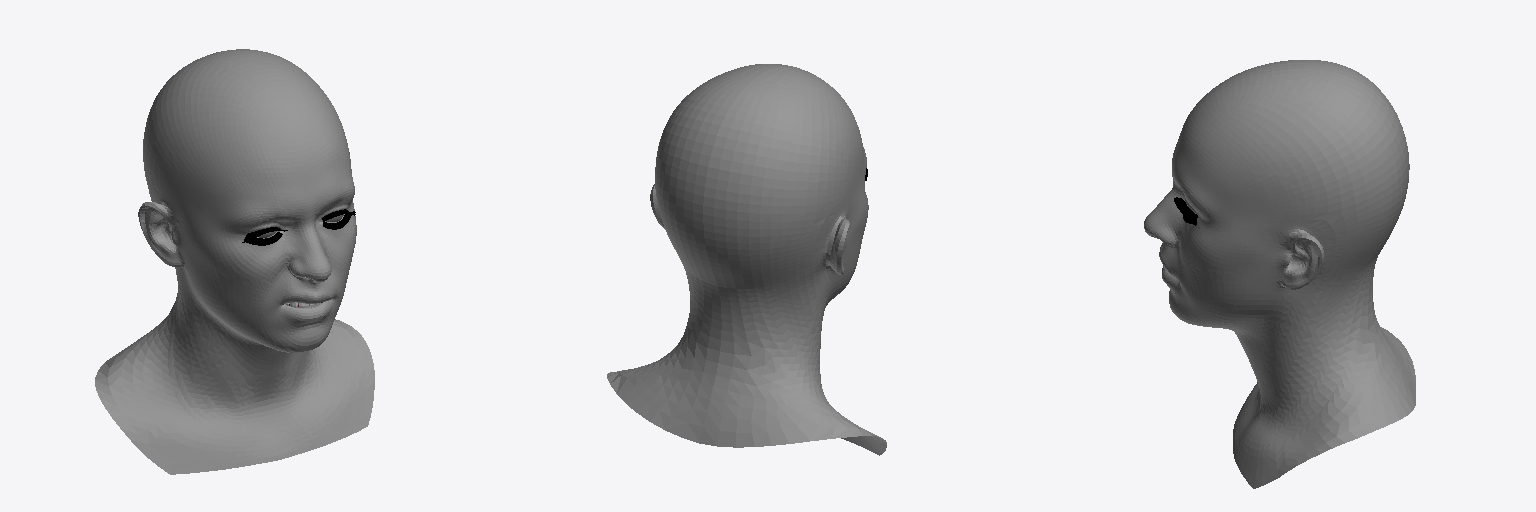
File: noseSneer_R.obj
The picture shows the model from 3 angles: view 1: azimuth 30°, elevation 25°; view 2: azimuth 150°, elevation 25°; view 3: azimuth 270°, elevation 25°; orthographic projection.
Bounding box in the file's own units: 24.83 × 33.81 × 22.34.